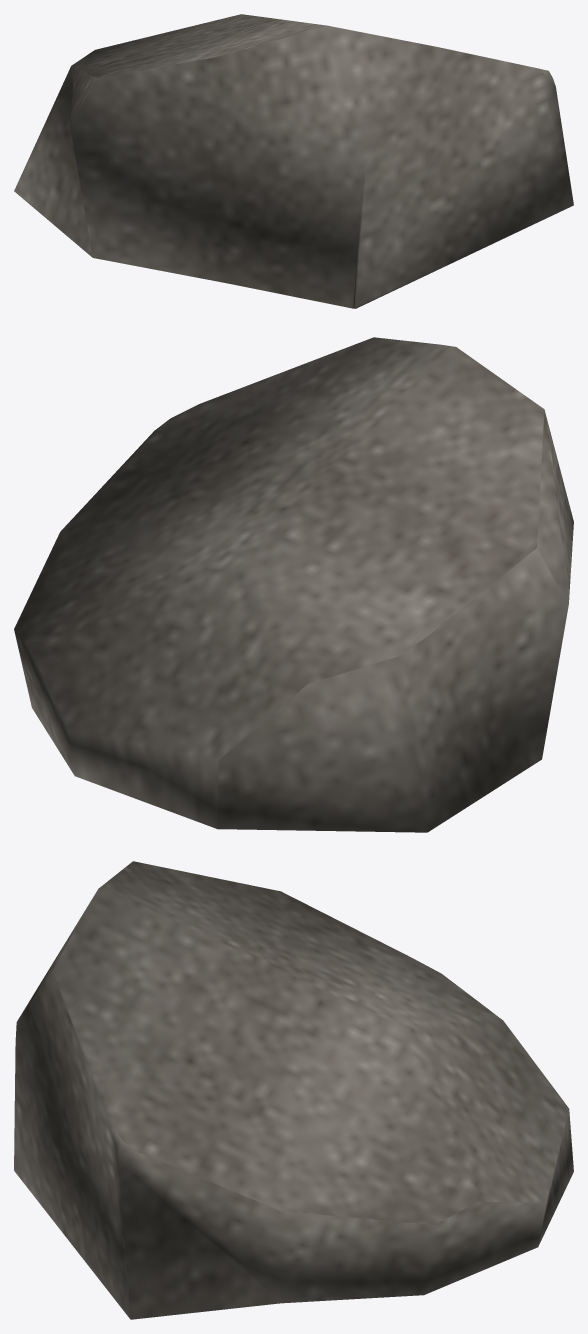
File: rock_spire_1.glb
3 renders of one model, top to bottom at view 1: azimuth 30°, elevation 25°; view 2: azimuth 150°, elevation 25°; view 3: azimuth 270°, elevation 25°, orthographic. The views are drawn at different scales.
Parts seen in each view (by area): view 1: rock_spire_1; view 2: rock_spire_1; view 3: rock_spire_1.
Boxes of the visible parts, <box> form: rock_spire_1: <box>14,14,573,308</box>; rock_spire_1: <box>14,337,573,832</box>; rock_spire_1: <box>14,861,573,1319</box>.
Bounding box in the file's own units: 2.06 × 1.14 × 2.02.
Materials: 1 (1 with a texture image).
